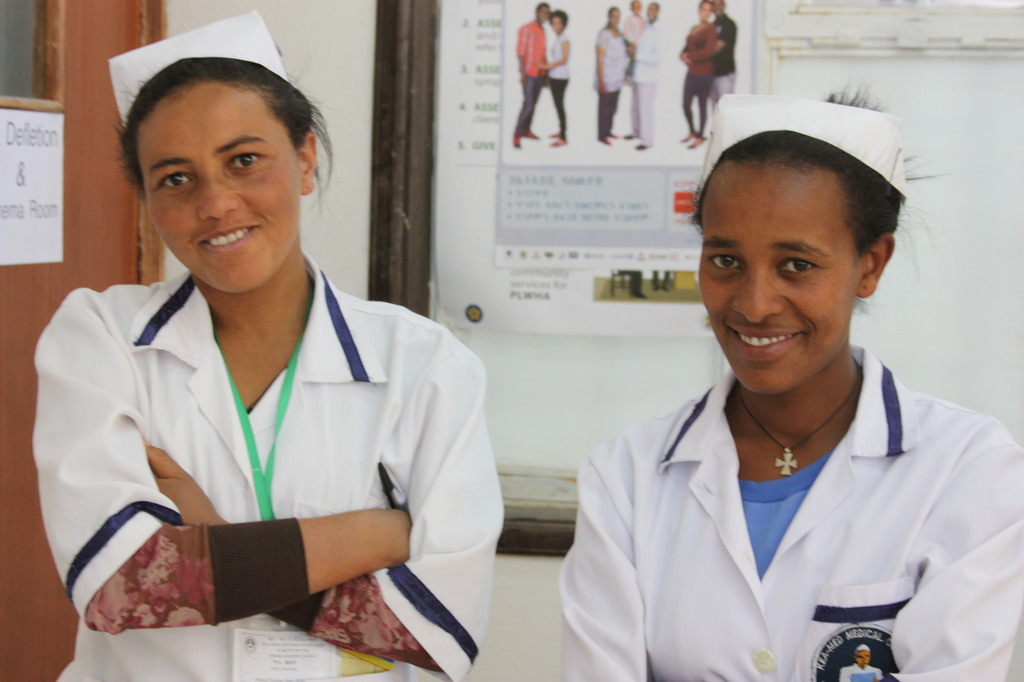Person: (30, 3, 504, 682), (560, 93, 1024, 682), (515, 0, 738, 146), (838, 643, 882, 682)
